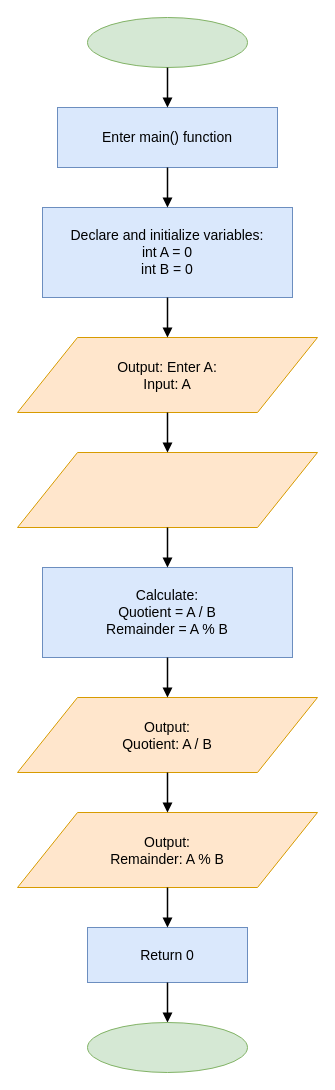
Some shapes in this 335 by 1090 pixel diagram are drawn without their labels. Each missing label, with the centre of its shape:
End: the point at 167,1047
Output: Enter B: Input: B: the point at 167,490
Start: the point at 167,42
